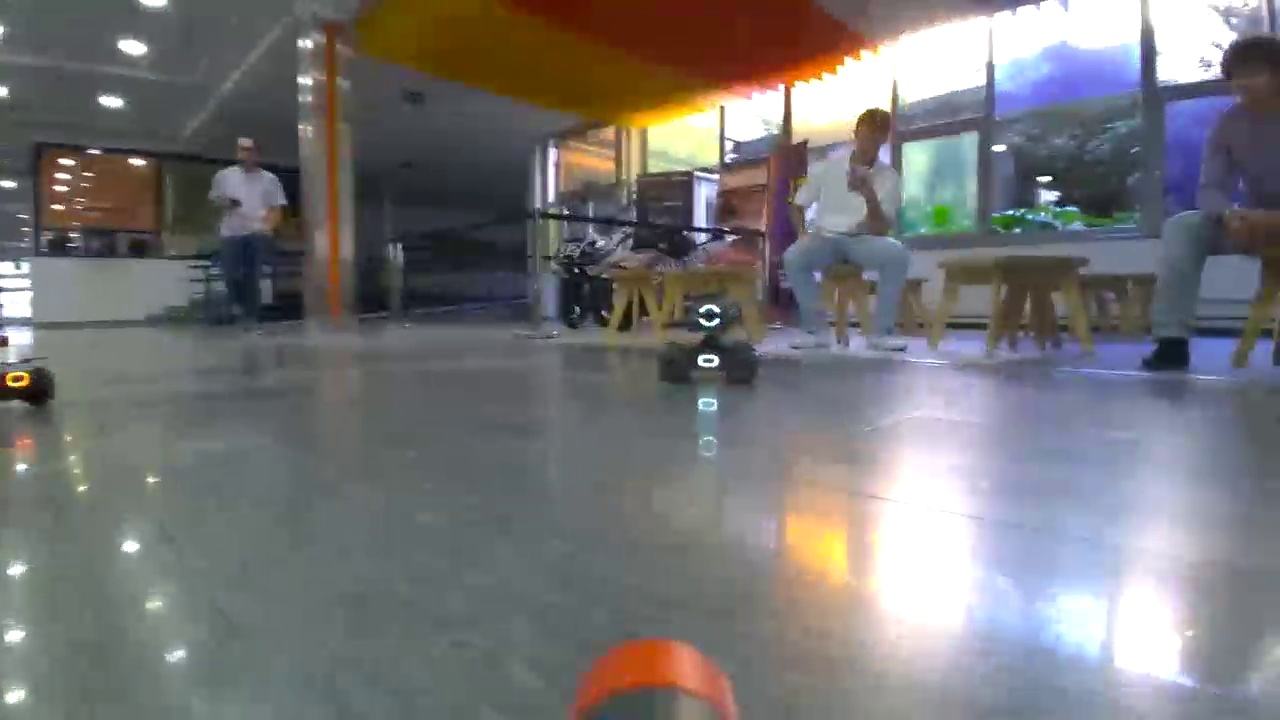robot: (655, 302, 755, 382), (1, 335, 52, 405)
